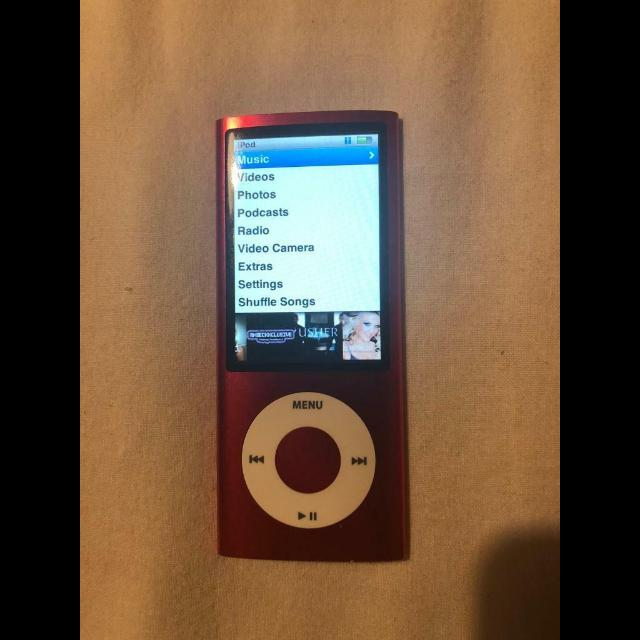Music-Player: (200, 91, 432, 576)
